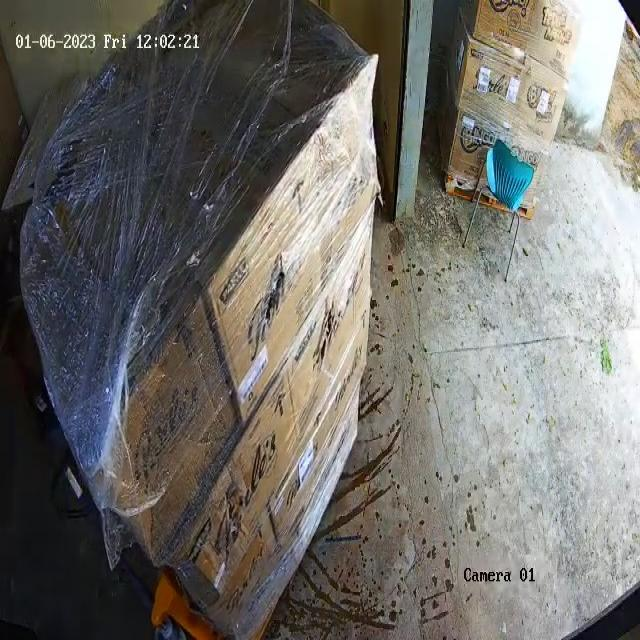leakage: (306, 289, 369, 377), (210, 505, 254, 598), (256, 251, 290, 348)
squeeze: (79, 359, 172, 509), (322, 61, 399, 227)
